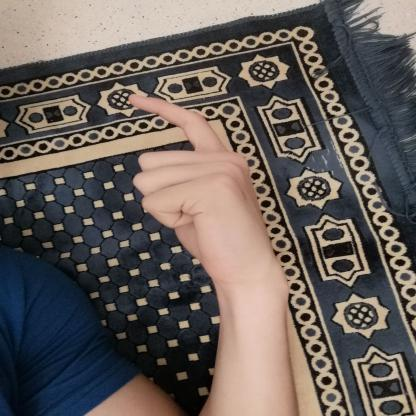RAA: (114, 81, 291, 292)
